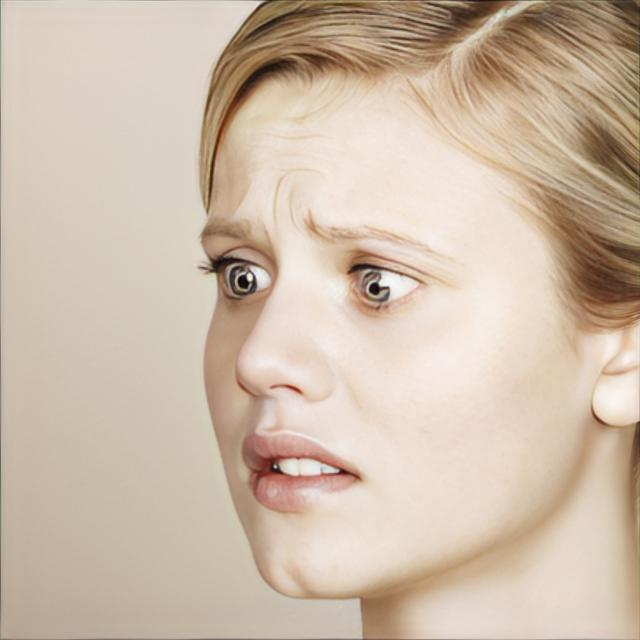fear: (192, 59, 590, 600)
